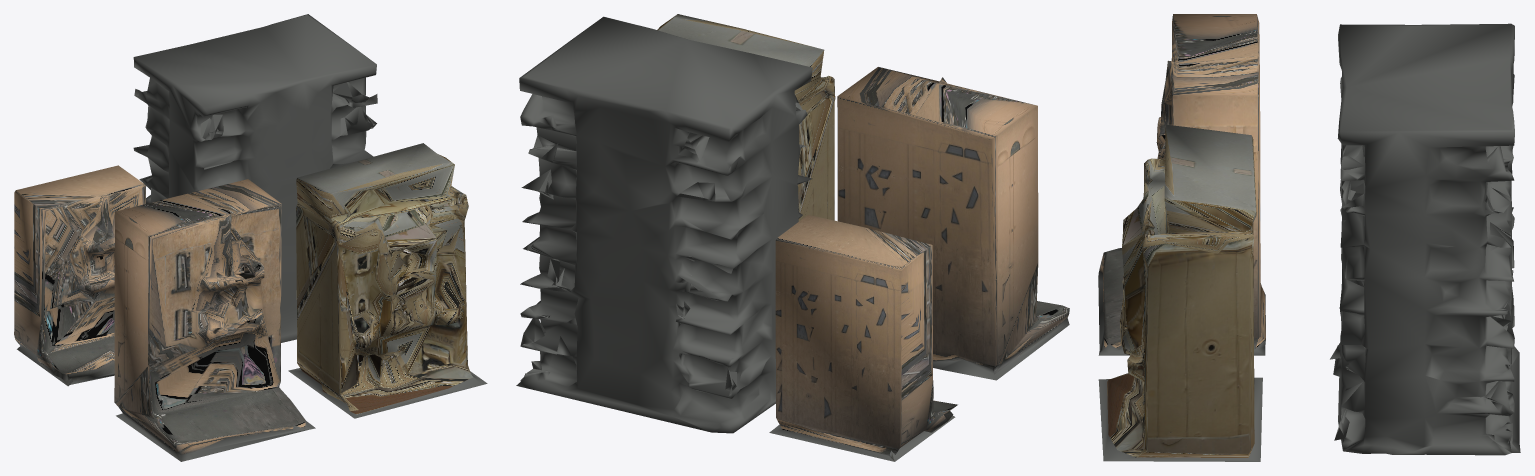
The model's file is City_LOD1.fbx.
The picture shows the model from 3 angles, left to right: view 1: azimuth 30°, elevation 25°; view 2: azimuth 150°, elevation 25°; view 3: azimuth 270°, elevation 25°; orthographic projection. The views are drawn at different scales.
Visible parts, largest first — view 1: City_LOD1; view 2: City_LOD1; view 3: City_LOD1.
Boxes of the visible parts, box(x1,y1,x2,y2) form: City_LOD1: box(14, 14, 487, 461); City_LOD1: box(516, 14, 1069, 461); City_LOD1: box(1098, 14, 1520, 461).
Bounding box in the file's own units: 147 × 112 × 133.
